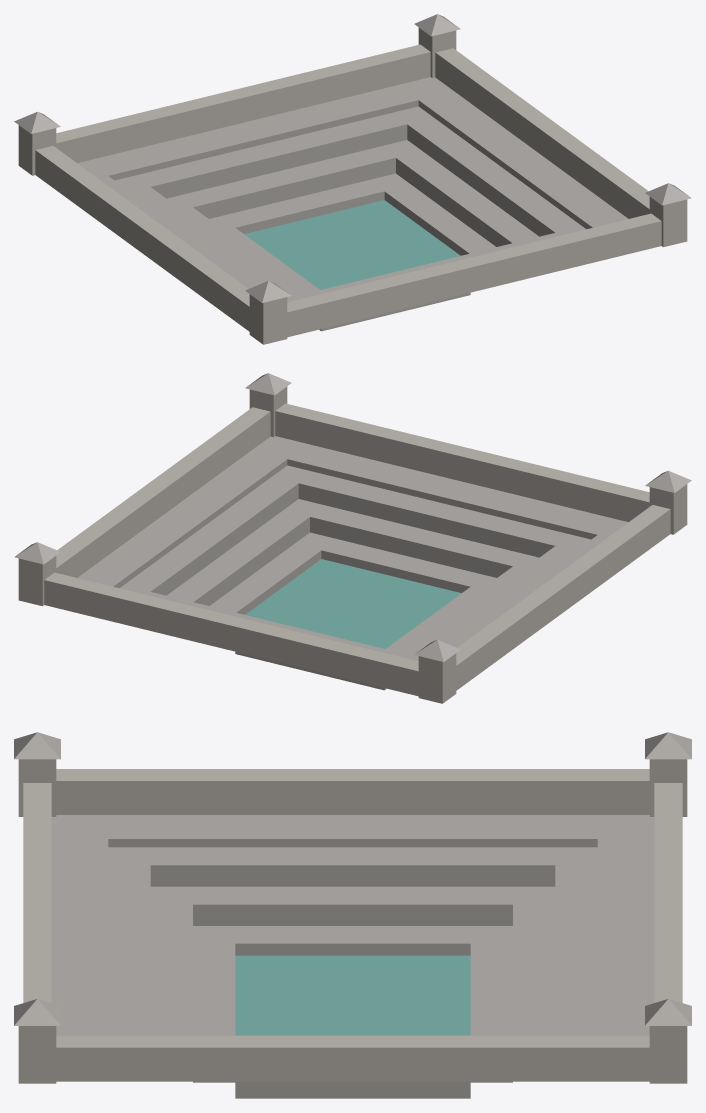
File: temple_well.glb
3 views of the same model, one above another, from view 1: azimuth 30°, elevation 25°; view 2: azimuth 150°, elevation 25°; view 3: azimuth 270°, elevation 25° (orthographic). The views are drawn at different scales.
Parts seen in each view (by area): view 1: Parapet_North_Node, Parapet_South_Node, Sacred_Theertham_Water_Plane_Node, Upper_Promenade_S_Node, Parapet_West_Node, Parapet_East_Node, Step_Tier1_S_Node, Upper_Promenade_E_Node, Step_Tier2_S_Node, Step_Tier1_E_Node, Step_Tier2_E_Node, Step_Tier3_S_Node (+14 smaller); view 2: Parapet_South_Node, Parapet_North_Node, Sacred_Theertham_Water_Plane_Node, Upper_Promenade_N_Node, Parapet_West_Node, Parapet_East_Node, Step_Tier1_N_Node, Upper_Promenade_E_Node, Step_Tier2_N_Node, Step_Tier1_E_Node, Step_Tier2_E_Node, Step_Tier3_N_Node (+14 smaller); view 3: Parapet_East_Node, Parapet_West_Node, Sacred_Theertham_Water_Plane_Node, Step_Tier1_W_Node, Upper_Promenade_W_Node, Step_Tier2_W_Node, Upper_Promenade_N_Node, Upper_Promenade_S_Node, Step_Tier1_N_Node, Step_Tier1_S_Node, Step_Tier3_W_Node, Step_Tier2_N_Node (+15 smaller).
Boxes of the visible parts, left/top/right/bottom form: Parapet_North_Node: left=287, top=213, right=661, bottom=337; Parapet_South_Node: left=56, top=44, right=430, bottom=163; Sacred_Theertham_Water_Plane_Node: left=244, top=200, right=460, bottom=289; Upper_Promenade_S_Node: left=77, top=77, right=453, bottom=180; Parapet_West_Node: left=35, top=146, right=249, bottom=331; Parapet_East_Node: left=435, top=48, right=649, bottom=218; Step_Tier1_S_Node: left=115, top=106, right=433, bottom=198; Upper_Promenade_E_Node: left=418, top=91, right=627, bottom=229; Step_Tier2_S_Node: left=167, top=140, right=422, bottom=218; Step_Tier1_E_Node: left=407, top=118, right=581, bottom=236; Step_Tier2_E_Node: left=396, top=151, right=538, bottom=246; Step_Tier3_S_Node: left=209, top=173, right=410, bottom=233; Parapet_South_Node: left=44, top=572, right=418, bottom=696; Parapet_North_Node: left=275, top=403, right=649, bottom=522; Sacred_Theertham_Water_Plane_Node: left=245, top=559, right=461, bottom=648; Upper_Promenade_N_Node: left=252, top=436, right=628, bottom=539; Parapet_West_Node: left=456, top=505, right=670, bottom=690; Parapet_East_Node: left=56, top=407, right=270, bottom=577; Step_Tier1_N_Node: left=272, top=465, right=590, bottom=557; Upper_Promenade_E_Node: left=78, top=450, right=287, bottom=588; Step_Tier2_N_Node: left=283, top=499, right=538, bottom=577; Step_Tier1_E_Node: left=124, top=477, right=298, bottom=595; Step_Tier2_E_Node: left=167, top=510, right=309, bottom=605; Step_Tier3_N_Node: left=295, top=532, right=496, bottom=592; Parapet_East_Node: left=56, top=1035, right=649, bottom=1081; Parapet_West_Node: left=56, top=769, right=649, bottom=814; Sacred_Theertham_Water_Plane_Node: left=235, top=955, right=470, bottom=1035; Step_Tier1_W_Node: left=150, top=847, right=555, bottom=886; Upper_Promenade_W_Node: left=108, top=815, right=597, bottom=847; Step_Tier2_W_Node: left=193, top=886, right=512, bottom=925; Upper_Promenade_N_Node: left=51, top=815, right=108, bottom=1035; Upper_Promenade_S_Node: left=597, top=815, right=654, bottom=1035; Step_Tier1_N_Node: left=108, top=847, right=150, bottom=1035; Step_Tier1_S_Node: left=555, top=847, right=597, bottom=1035; Step_Tier3_W_Node: left=235, top=926, right=470, bottom=955; Step_Tier2_N_Node: left=150, top=886, right=192, bottom=1035.
Bounding box in the file's own units: 14.4 × 4.3 × 14.4.
